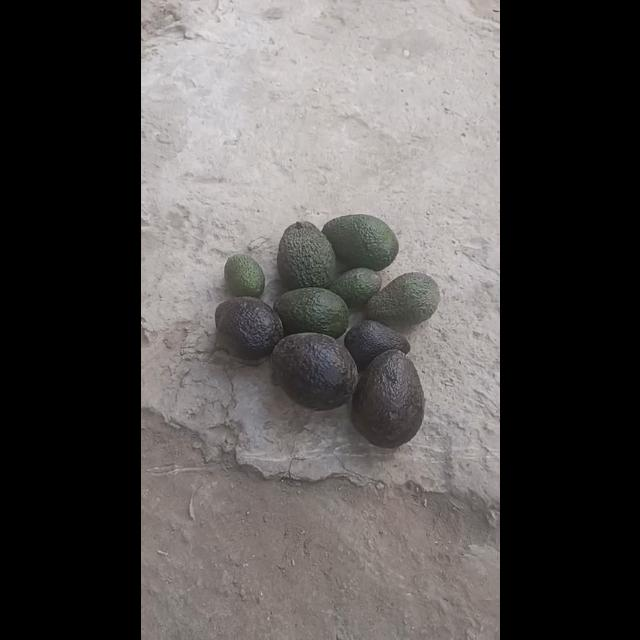Primera: (349, 352, 423, 446), (270, 332, 358, 408), (320, 212, 398, 272), (212, 296, 284, 360), (276, 220, 336, 288)
Segunda: (366, 270, 439, 326), (273, 286, 349, 338)
Tercera: (344, 319, 411, 371), (328, 267, 382, 309), (223, 253, 265, 299)
